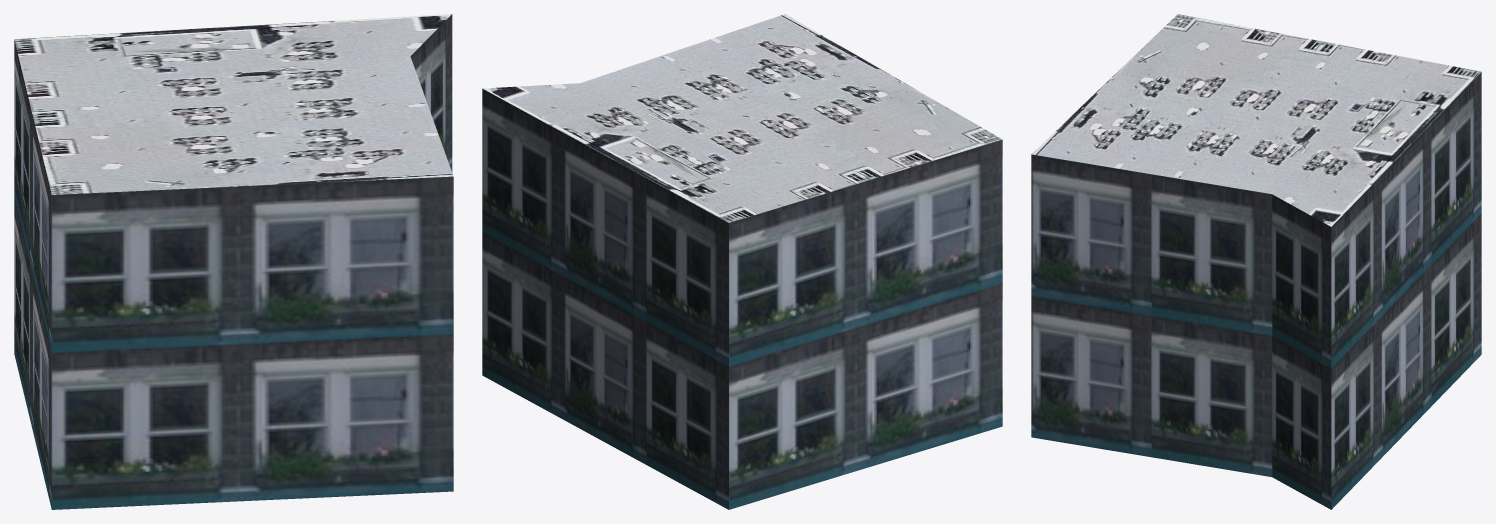
The model's file is ResTex__2590.fbx.
3 renders of one model, left to right at view 1: azimuth 30°, elevation 25°; view 2: azimuth 150°, elevation 25°; view 3: azimuth 270°, elevation 25°, orthographic. The views are drawn at different scales.
Visible parts, largest first — view 1: CityEngineMaterial_11_m, CityEngineMaterial_4_m; view 2: CityEngineMaterial_11_m, CityEngineMaterial_4_m; view 3: CityEngineMaterial_11_m, CityEngineMaterial_4_m.
Boxes of the visible parts, x1,y1,x2,y2 form: CityEngineMaterial_11_m: (14, 14, 453, 509); CityEngineMaterial_4_m: (14, 14, 453, 194); CityEngineMaterial_11_m: (482, 88, 1002, 509); CityEngineMaterial_4_m: (483, 14, 1002, 222); CityEngineMaterial_11_m: (1031, 72, 1481, 509); CityEngineMaterial_4_m: (1032, 14, 1480, 226).
Bounding box in the file's own units: 9.68 × 6 × 8.65.
Materials: 2 (2 with a texture image).
